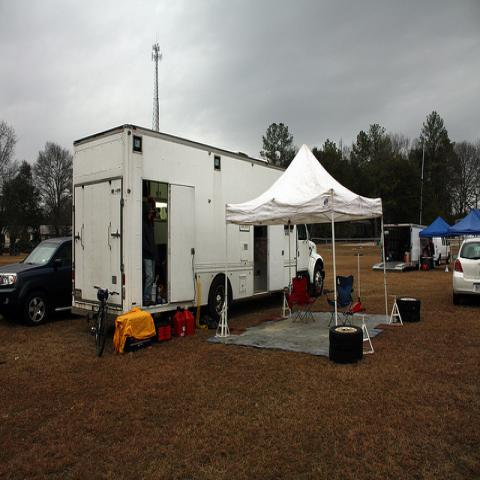car: (0, 236, 72, 326), (452, 234, 480, 306)
truck: (59, 124, 329, 329), (373, 225, 451, 269)
